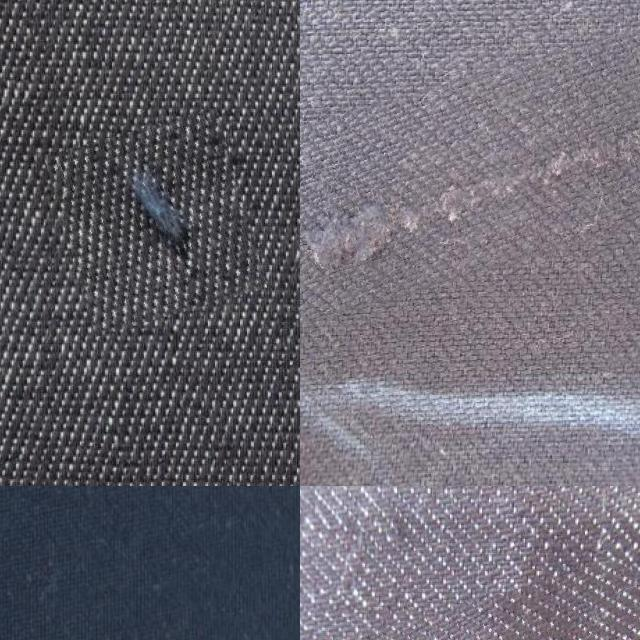stains: (300, 27, 640, 298), (55, 118, 256, 327), (300, 578, 640, 640)
